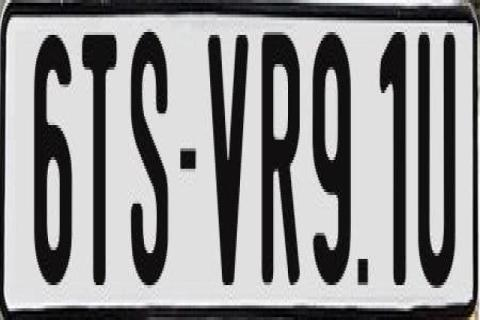0: (312, 26, 356, 291), (34, 29, 78, 279), (379, 29, 407, 291)
R: (258, 29, 301, 288)
S: (129, 32, 167, 285)
T: (81, 29, 119, 291)
U: (415, 29, 452, 285)
V: (206, 29, 250, 285)
